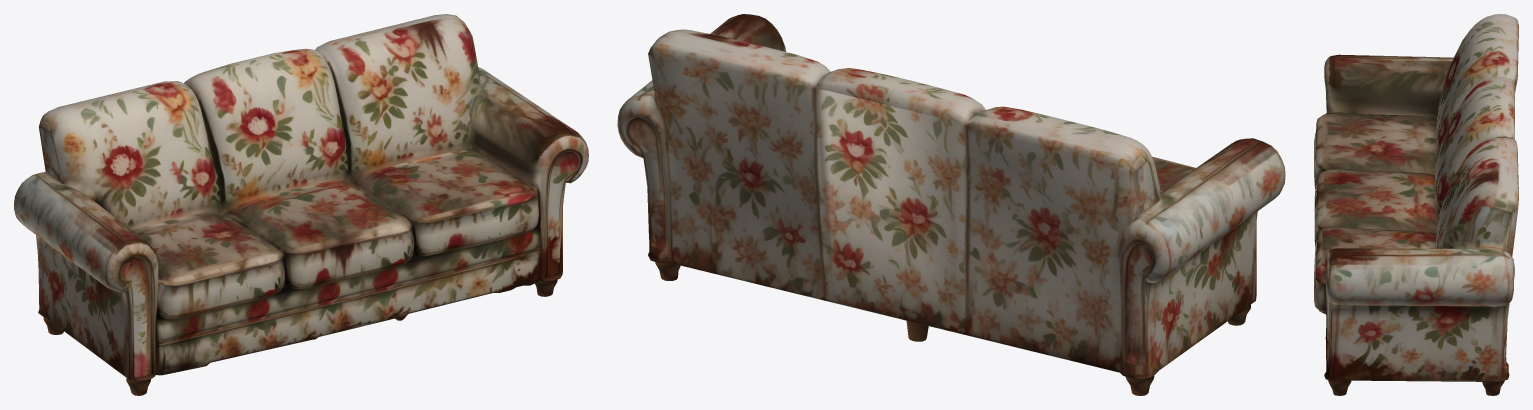
The model's file is old_cheap_couch_with_a_bad_floral_pattern_53278f1b_v2.glb.
3 renders of one model, left to right at view 1: azimuth 30°, elevation 25°; view 2: azimuth 150°, elevation 25°; view 3: azimuth 270°, elevation 25°, orthographic. The views are drawn at different scales.
Visible parts, largest first — view 1: material; view 2: material; view 3: material.
Part boxes in pixels (<box>): material: <box>14,14,588,395</box>; material: <box>617,14,1285,395</box>; material: <box>1314,14,1518,395</box>.
Bounding box in the file's own units: 1.9 × 0.8221 × 0.7517.
1 material, 1 textured.
